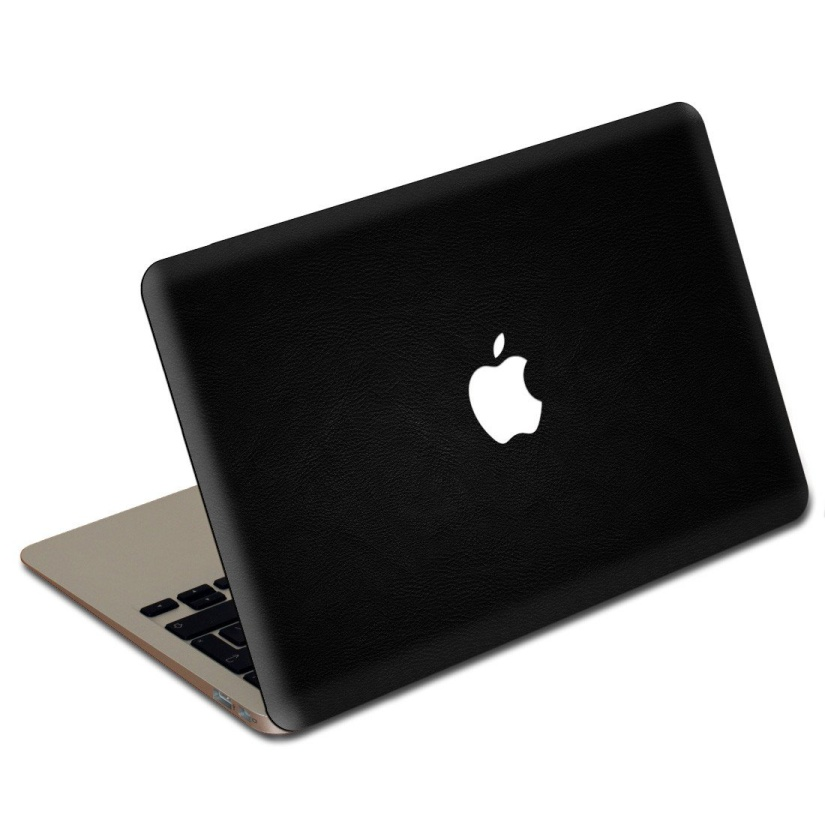apple: (450, 303, 566, 471)
